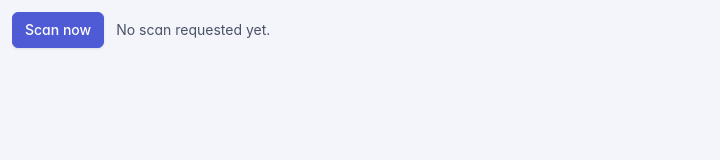
it: Scan now › says why when the caller may not request scans
Step 1. Click the button "Scan now" → (58, 30), box x1=12 y1=12 x2=104 y2=48
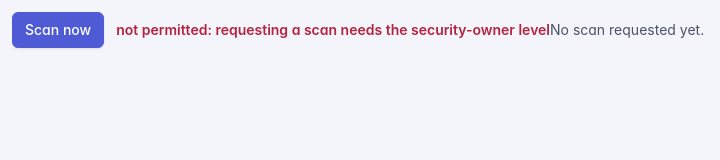
Expected: the text "not permitted: requesting a scan needs the security-owner level" is shown, x1=116 y1=21 x2=550 y2=38
